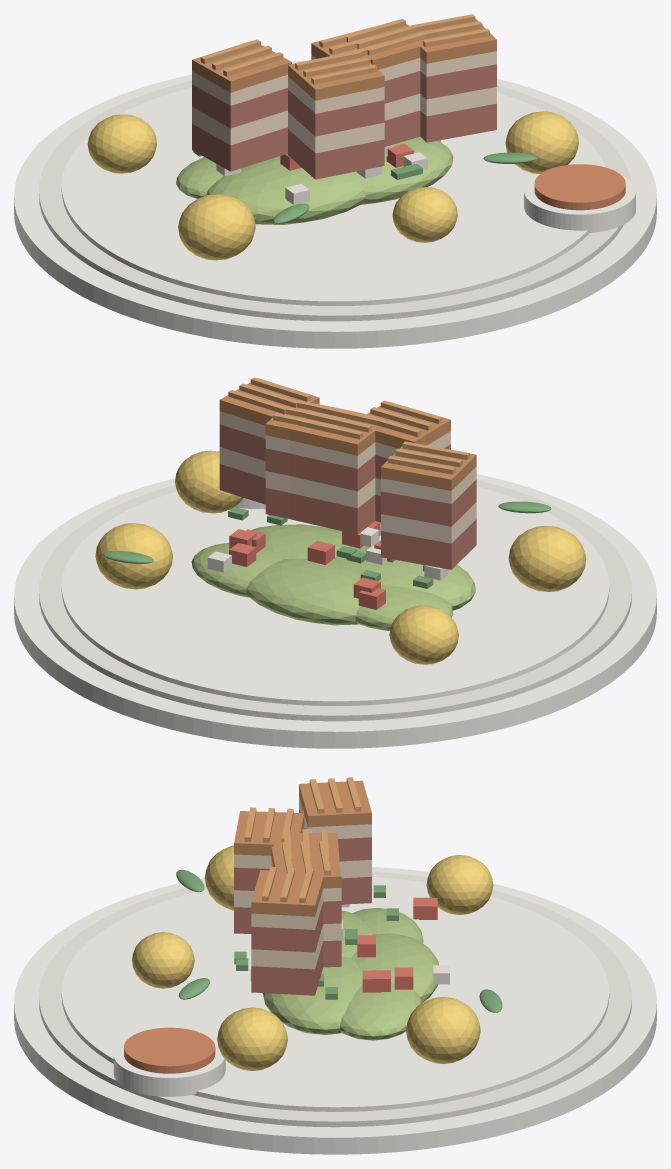
The model's file is chicharrones-v100.glb.
3 renders of one model, top to bottom at view 1: azimuth 30°, elevation 25°; view 2: azimuth 150°, elevation 25°; view 3: azimuth 270°, elevation 25°, orthographic.
Visible parts, largest first — view 1: part_2, part_0, part_1, part_3, part_76, part_82, part_77, part_78, part_81, part_80, part_4, part_44 (+33 smaller); view 2: part_2, part_0, part_1, part_5, part_76, part_79, part_78, part_3, part_77, part_36, part_68, part_38 (+23 smaller); view 3: part_2, part_0, part_1, part_79, part_4, part_77, part_82, part_6, part_78, part_81, part_5, part_80 (+17 smaller).
Boxes of the visible parts, box(x1,y1,x2,y2) form: part_2: box(61, 87, 605, 305); part_0: box(14, 60, 656, 348); part_1: box(39, 81, 630, 321); part_3: box(206, 156, 365, 224); part_76: box(178, 194, 255, 260); part_82: box(534, 164, 625, 210); part_77: box(505, 111, 578, 173); part_78: box(87, 114, 156, 173); part_81: box(524, 175, 635, 233); part_80: box(392, 187, 457, 242); part_4: box(353, 136, 453, 204); part_44: box(288, 129, 384, 179); part_2: box(61, 486, 609, 705); part_0: box(14, 474, 656, 748); part_1: box(39, 480, 631, 721); part_5: box(246, 558, 360, 625); part_76: box(508, 525, 586, 591); part_79: box(95, 523, 172, 589); part_78: box(389, 605, 458, 664); part_3: box(332, 541, 475, 610); part_77: box(175, 450, 243, 513); part_36: box(381, 519, 476, 569); part_68: box(290, 493, 375, 534); part_38: box(381, 479, 476, 526); part_2: box(61, 877, 609, 1111); part_0: box(14, 867, 656, 1154); part_1: box(39, 872, 631, 1127); part_79: box(406, 997, 480, 1064); part_4: box(262, 956, 362, 1034); part_77: box(217, 1007, 287, 1070); part_82: box(124, 1027, 215, 1073); part_6: box(340, 982, 421, 1040); part_78: box(426, 855, 493, 914); part_81: box(113, 1038, 225, 1096); part_5: box(351, 933, 438, 1002); part_80: box(132, 932, 194, 988).
Size of the model in its own units: 0.31 by 0.0957 by 0.31.
